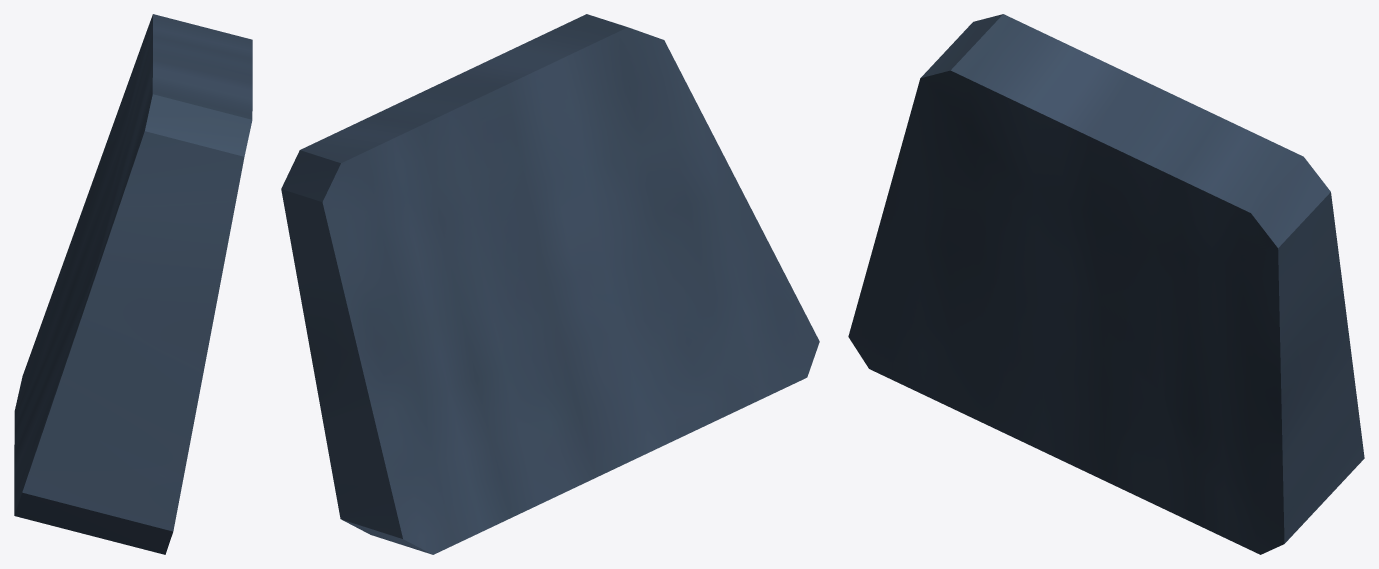
Rendered from Cuerpo Candado.fbx.
3 renders of one model, left to right at view 1: azimuth 30°, elevation 25°; view 2: azimuth 150°, elevation 25°; view 3: azimuth 270°, elevation 25°, orthographic. The views are drawn at different scales.
Parts seen in each view (by area): view 1: CuerpoCand; view 2: CuerpoCand; view 3: CuerpoCand.
Part boxes in pixels (left/top/right/bottom): CuerpoCand: left=14, top=14, right=252, bottom=554; CuerpoCand: left=281, top=14, right=819, bottom=554; CuerpoCand: left=848, top=14, right=1364, bottom=554.
Size of the model in its own units: 9.69 by 11.23 by 11.13.
